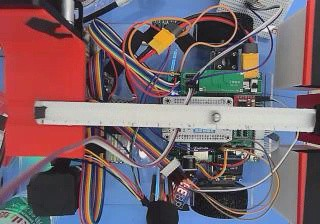ironball: (209, 112, 221, 121)
